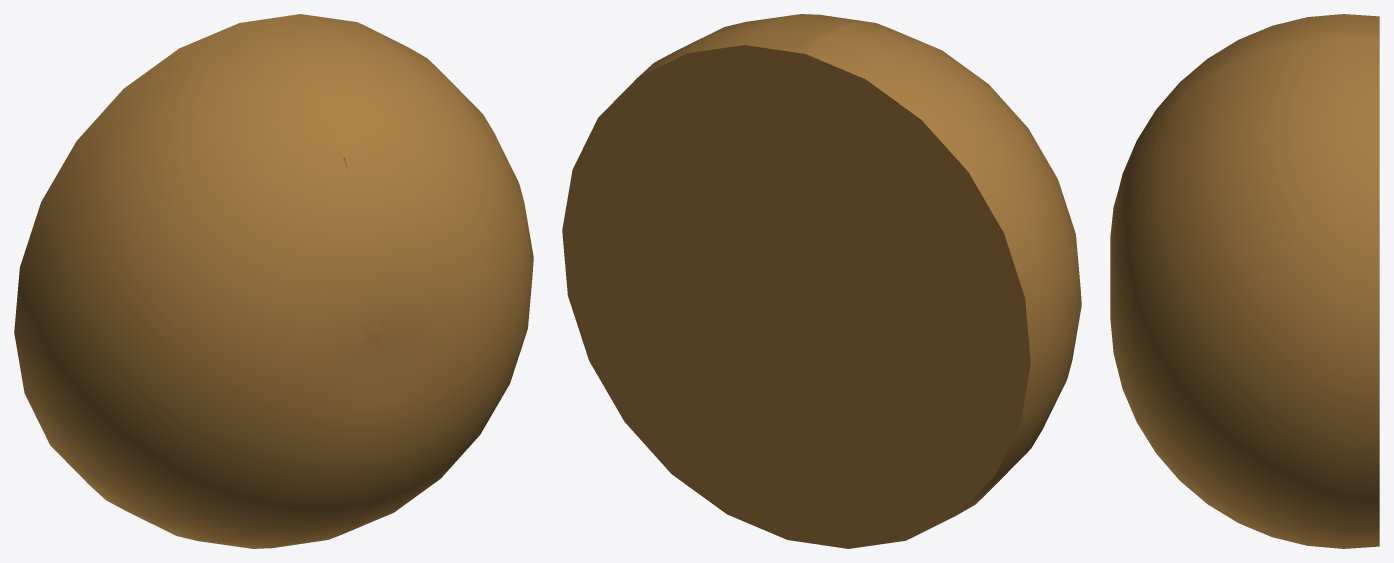
Rendered from original-8.obj.
3 renders of one model, left to right at view 1: azimuth 30°, elevation 25°; view 2: azimuth 150°, elevation 25°; view 3: azimuth 270°, elevation 25°, orthographic.
Visible parts, largest first — view 1: Group8/mesh20/mesh20-geometry#mesh20-geometry; view 2: Group8/mesh20/mesh20-geometry#mesh20-geometry; view 3: Group8/mesh20/mesh20-geometry#mesh20-geometry.
Boxes of the visible parts, bbox=[...] form: Group8/mesh20/mesh20-geometry#mesh20-geometry: bbox=[14, 14, 533, 548]; Group8/mesh20/mesh20-geometry#mesh20-geometry: bbox=[562, 14, 1081, 548]; Group8/mesh20/mesh20-geometry#mesh20-geometry: bbox=[1110, 14, 1379, 548].
Bounding box in the file's own units: 0.1542 × 0.1542 × 0.0771.
